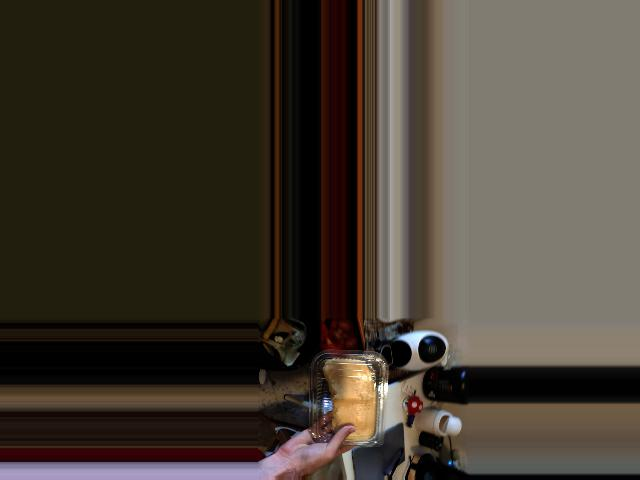cheese: (304, 357, 395, 443)
